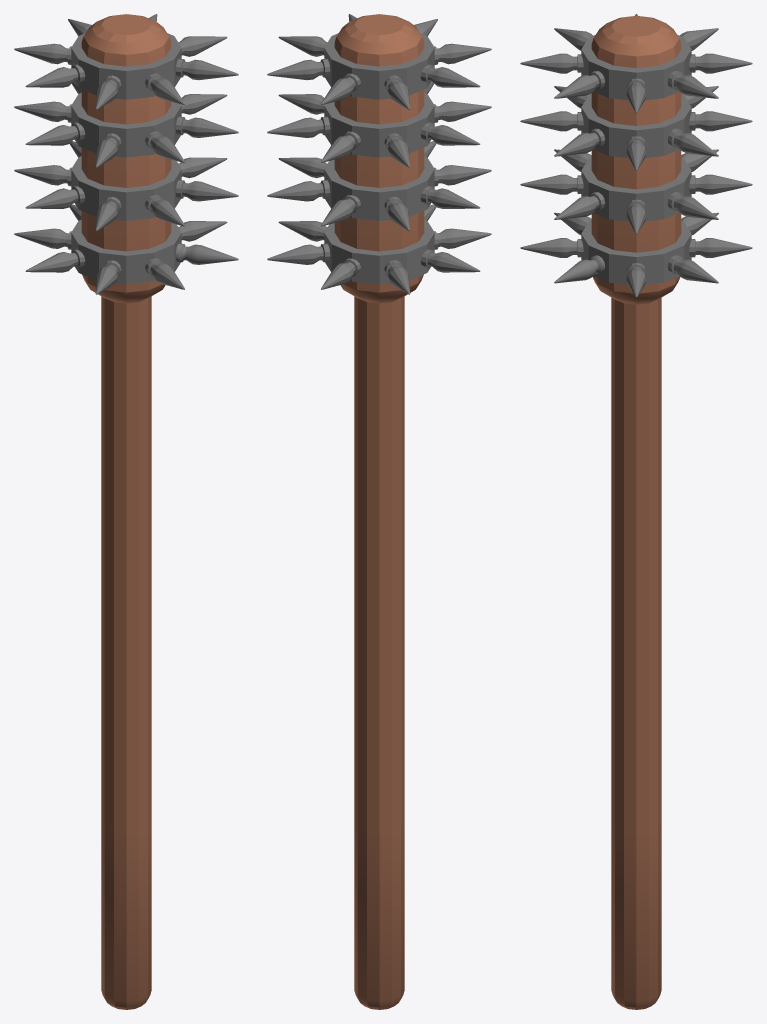
File: Mace.fbx
3 views of the same model, side by side, from view 1: azimuth 30°, elevation 25°; view 2: azimuth 150°, elevation 25°; view 3: azimuth 270°, elevation 25° (orthographic).
Visible parts, largest first — view 1: Mace; view 2: Mace; view 3: Mace.
Boxes of the visible parts, x1,y1,x2,y2 form: Mace: (14, 14, 238, 1009); Mace: (267, 14, 491, 1009); Mace: (520, 14, 752, 1009).
Bounding box in the file's own units: 0.1455 × 0.1455 × 0.6768.
